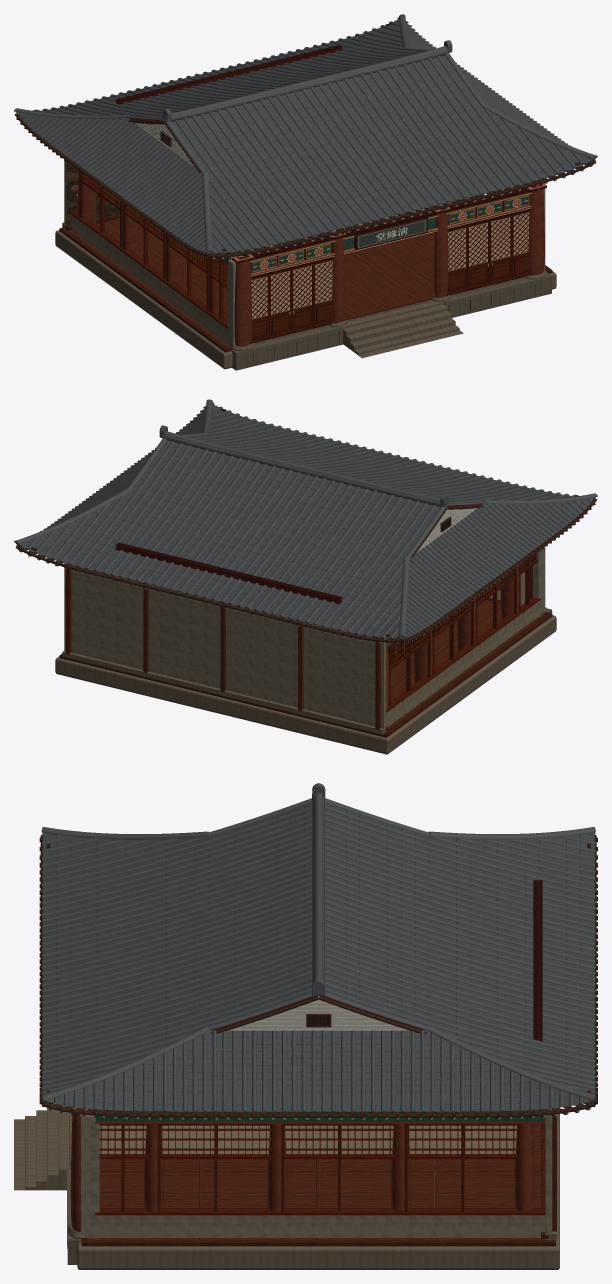
Rendered from hall-shell.gltf.
3 views of the same model, one above another, from view 1: azimuth 30°, elevation 25°; view 2: azimuth 150°, elevation 25°; view 3: azimuth 270°, elevation 25° (orthographic). The views are drawn at different scales.
Visible parts, largest first — view 1: 팔작 · 입체 수키와와 겹친 암키와, 팔작 · 앞뒤 지붕면과 양측 하부 추녀, 청연당 · 가운데 출입문, restrained satin well-frame floor (×3), dressed stone foundation, 팔작 · 가로 용마루와 네 내림마루, 청연당 · 따뜻한 갈색 목재 (×2), 팔작 · 겹처마 서까래와 부연, aged warm earth plaster, 청연당 · 석간주 광물 단청, deep walnut joinery, Continuous painted rear wall (+4 smaller); view 2: 팔작 · 입체 수키와와 겹친 암키와, 팔작 · 앞뒤 지붕면과 양측 하부 추녀, Continuous painted rear wall, dressed stone foundation, 팔작 · 가로 용마루와 네 내림마루, 청연당 · 따뜻한 갈색 목재 (×2), 팔작 · 겹처마 서까래와 부연, aged Korean timber, restrained satin well-frame floor (×2), aged warm earth plaster, deep walnut joinery, 청연당 · 석간주 광물 단청 (+4 smaller); view 3: 팔작 · 입체 수키와와 겹친 암키와, 팔작 · 앞뒤 지붕면과 양측 하부 추녀, restrained satin well-frame floor (×2), dressed stone foundation, 청연당 · 따뜻한 갈색 목재 (×2), aged warm earth plaster, 팔작 · 가로 용마루와 네 내림마루, thin warm hanji clerestory diffusion, 팔작 · 겹처마 서까래와 부연, 청연당 · 석간주 광물 단청, 청연당 · 황갈색 창살 목재 (×2), 청연당 · 가운데 출입문 (+5 smaller).
Boxes of the visible parts, x1=… form: 팔작 · 입체 수키와와 겹친 암키와: x1=15, y1=17, x2=595, y2=253; 팔작 · 앞뒤 지붕면과 양측 하부 추녀: x1=18, y1=19, x2=594, y2=253; 청연당 · 가운데 출입문: x1=227, y1=180, x2=552, y2=370; restrained satin well-frame floor (×3): x1=68, y1=218, x2=545, y2=347; dressed stone foundation: x1=55, y1=222, x2=556, y2=369; 팔작 · 가로 용마루와 네 내림마루: x1=14, y1=14, x2=597, y2=252; 청연당 · 따뜻한 갈색 목재 (×2): x1=70, y1=48, x2=495, y2=328; 팔작 · 겹처마 서까래와 부연: x1=14, y1=20, x2=596, y2=258; aged warm earth plaster: x1=71, y1=214, x2=226, y2=343; 청연당 · 석간주 광물 단청: x1=78, y1=170, x2=460, y2=318; deep walnut joinery: x1=59, y1=213, x2=552, y2=352; Continuous painted rear wall: x1=64, y1=120, x2=164, y2=230; 팔작 · 입체 수키와와 겹친 암키와: x1=15, y1=402, x2=595, y2=638; 팔작 · 앞뒤 지붕면과 양측 하부 추녀: x1=17, y1=404, x2=593, y2=638; Continuous painted rear wall: x1=64, y1=563, x2=386, y2=731; dressed stone foundation: x1=55, y1=615, x2=556, y2=754; 팔작 · 가로 용마루와 네 내림마루: x1=14, y1=399, x2=597, y2=637; 청연당 · 따뜻한 갈색 목재 (×2): x1=114, y1=503, x2=540, y2=712; 팔작 · 겹처마 서까래와 부연: x1=15, y1=405, x2=596, y2=643; aged Korean timber: x1=65, y1=568, x2=380, y2=729; restrained satin well-frame floor (×2): x1=386, y1=599, x2=545, y2=731; aged warm earth plaster: x1=386, y1=601, x2=538, y2=726; deep walnut joinery: x1=59, y1=598, x2=552, y2=737; 청연당 · 석간주 광물 단청: x1=386, y1=566, x2=519, y2=708; 팔작 · 입체 수키와와 겹친 암키와: x1=42, y1=805, x2=595, y2=1111; 팔작 · 앞뒤 지붕면과 양측 하부 추녀: x1=43, y1=802, x2=594, y2=1111; restrained satin well-frame floor (×2): x1=86, y1=1126, x2=545, y2=1239; dressed stone foundation: x1=14, y1=1104, x2=559, y2=1269; 청연당 · 따뜻한 갈색 목재 (×2): x1=95, y1=995, x2=545, y2=1215; aged warm earth plaster: x1=99, y1=1215, x2=545, y2=1237; 팔작 · 가로 용마루와 네 내림마루: x1=41, y1=783, x2=595, y2=1100; thin warm hanji clerestory diffusion: x1=99, y1=1125, x2=517, y2=1153; 팔작 · 겹처마 서까래와 부연: x1=39, y1=834, x2=597, y2=1119; 청연당 · 석간주 광물 단청: x1=95, y1=1122, x2=545, y2=1211; 청연당 · 황갈색 창살 목재 (×2): x1=99, y1=1125, x2=517, y2=1155; 청연당 · 가운데 출입문: x1=67, y1=1107, x2=99, y2=1264.
Size of the model in its own units: 26.3 by 12.35 by 23.83.
